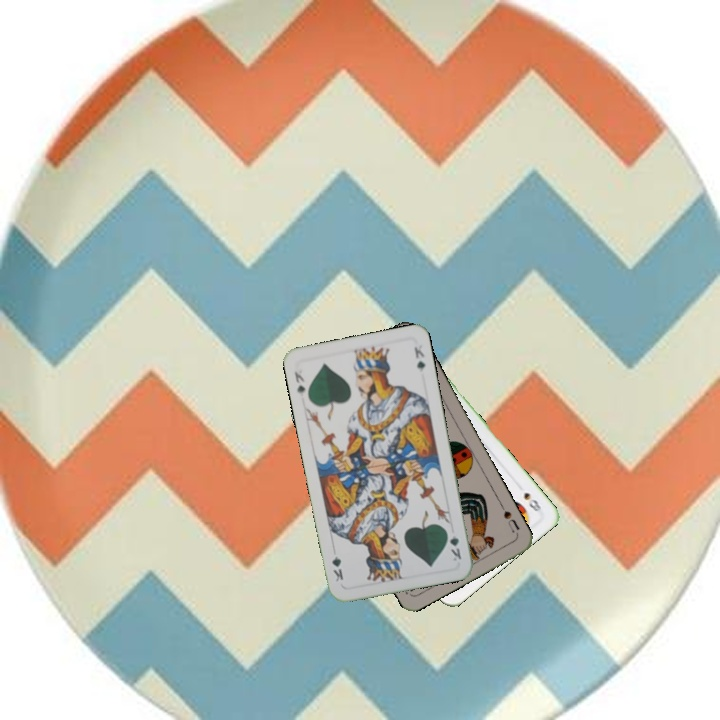GK: (442, 525, 464, 564), (290, 368, 308, 396)
S8: (520, 488, 544, 514)
SU: (496, 500, 522, 537)
